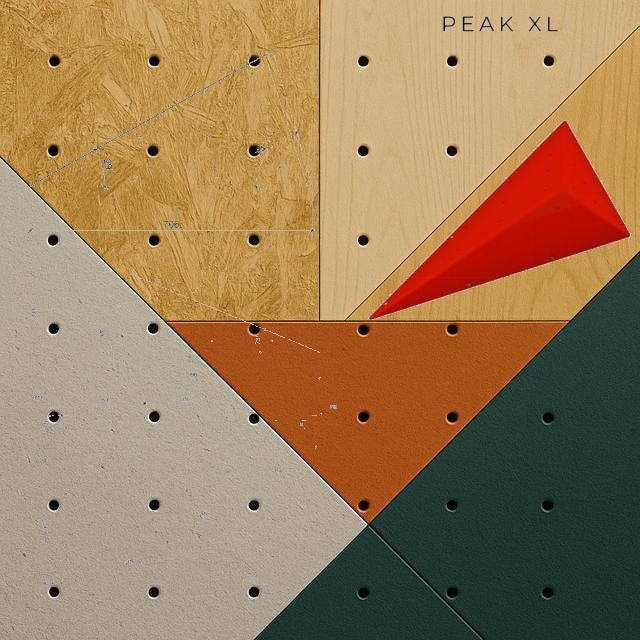Volume: (368, 118, 630, 320)
